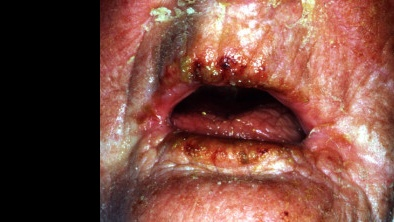SJS-TEN: (89, 0, 393, 221)
